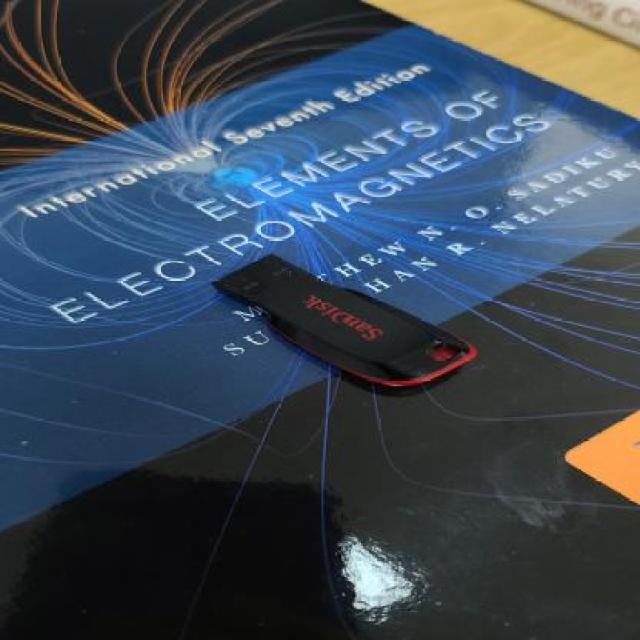Flashdisk: (204, 252, 482, 394)
